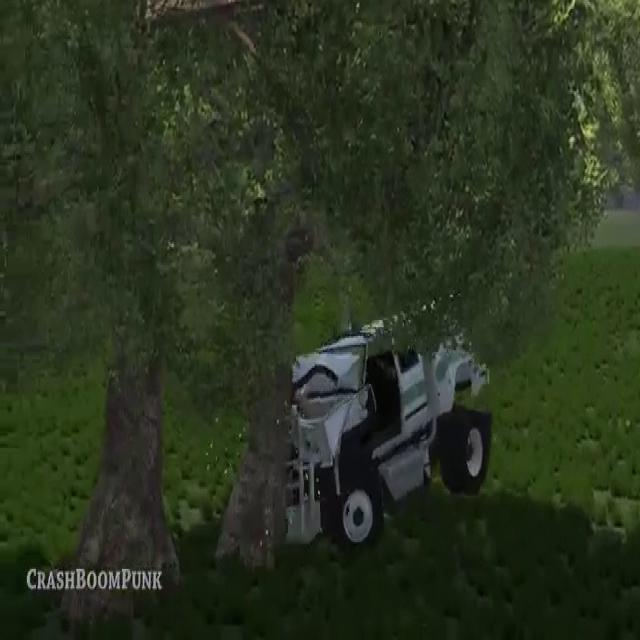accident: (265, 255, 506, 557)
